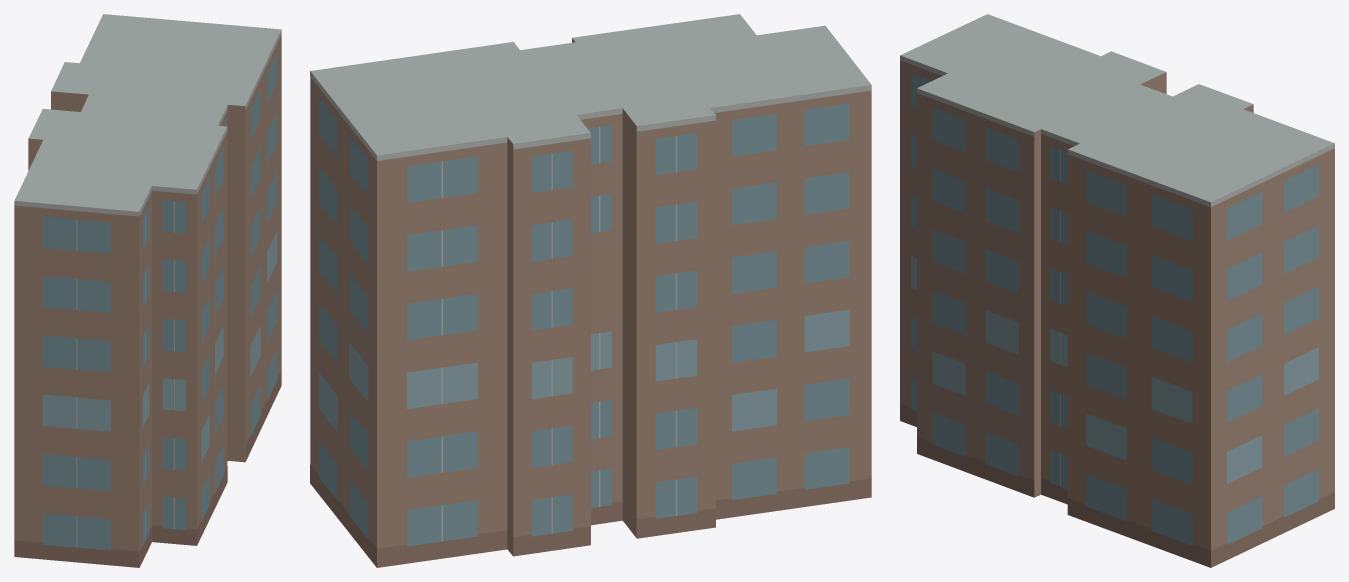
File: survey-upis-32524276.glb
3 views of the same model, side by side, from view 1: azimuth 30°, elevation 25°; view 2: azimuth 150°, elevation 25°; view 3: azimuth 270°, elevation 25° (orthographic). The views are drawn at different scales.
Visible parts, largest first — view 1: survey-upis-32524276.tmp; view 2: survey-upis-32524276.tmp; view 3: survey-upis-32524276.tmp.
Boxes of the visible parts, x1,y1,x2,y2 form: survey-upis-32524276.tmp: (14, 14, 281, 567); survey-upis-32524276.tmp: (310, 14, 871, 567); survey-upis-32524276.tmp: (900, 14, 1334, 567).
Bounding box in the file's own units: 20.24 × 18.3 × 19.74.
